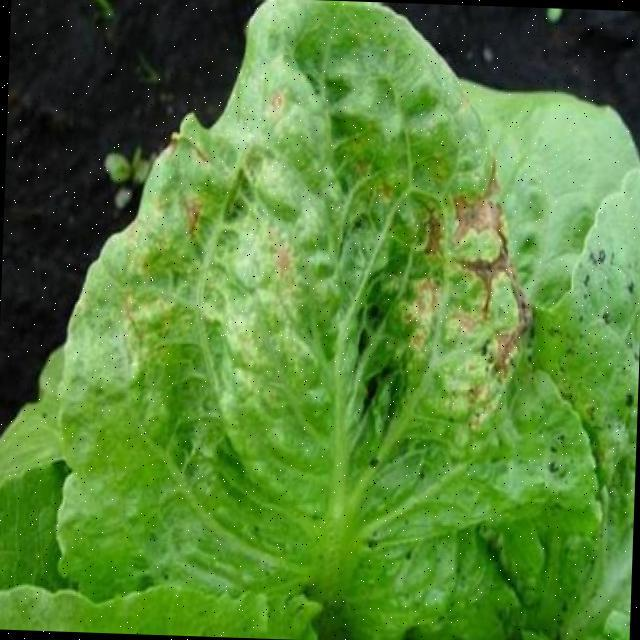Bacterial: (331, 108, 564, 470)
